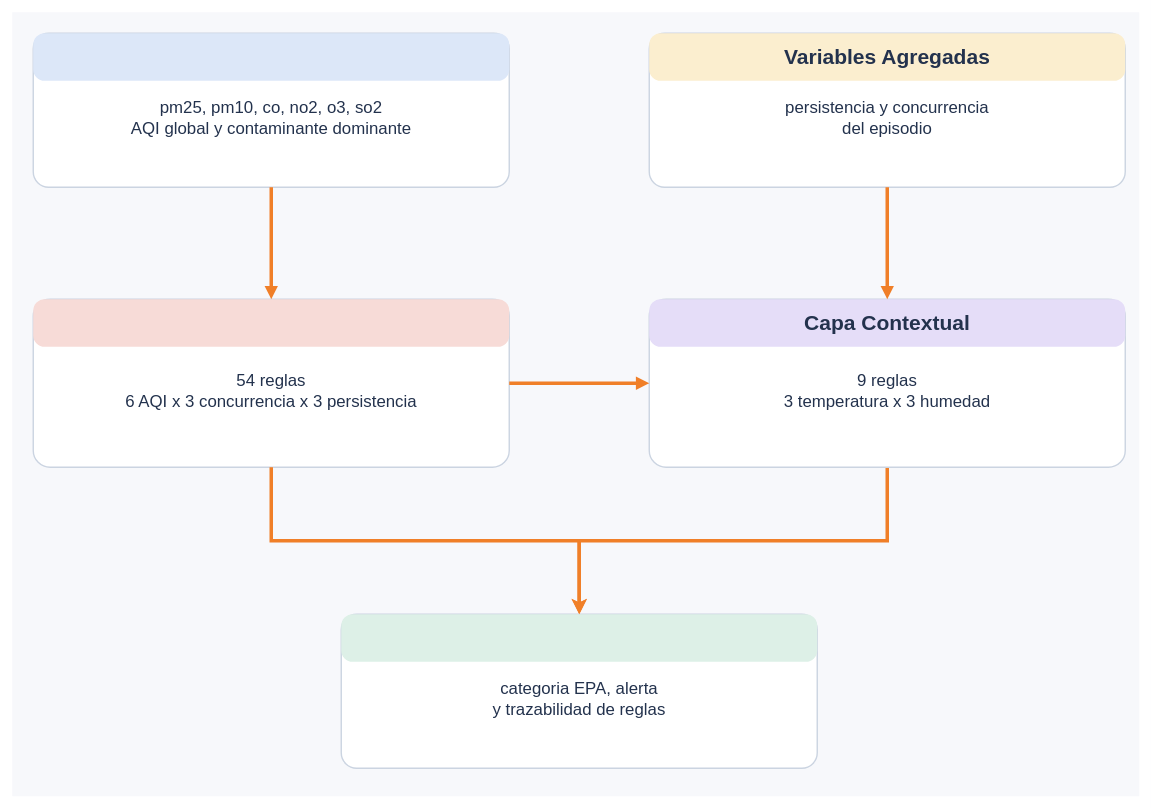
Some shapes in this 1151 by 808 pixel diagram are drawn without their labels. The shapes that lost their labels are listed below. From the top down, each one's centre as x and y in pixels, then its label:
point (271, 56): Base Normativa EPA/AQS
point (271, 322): Base Principal
point (579, 638): Salida Final
